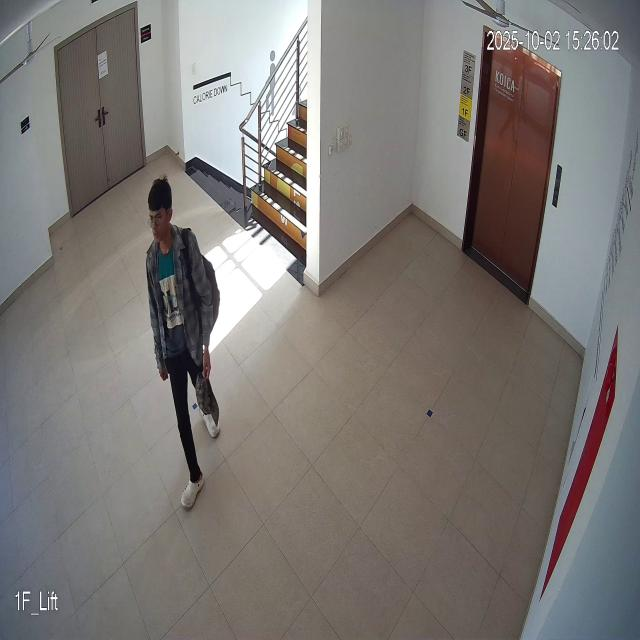face: (146, 176, 179, 250)
